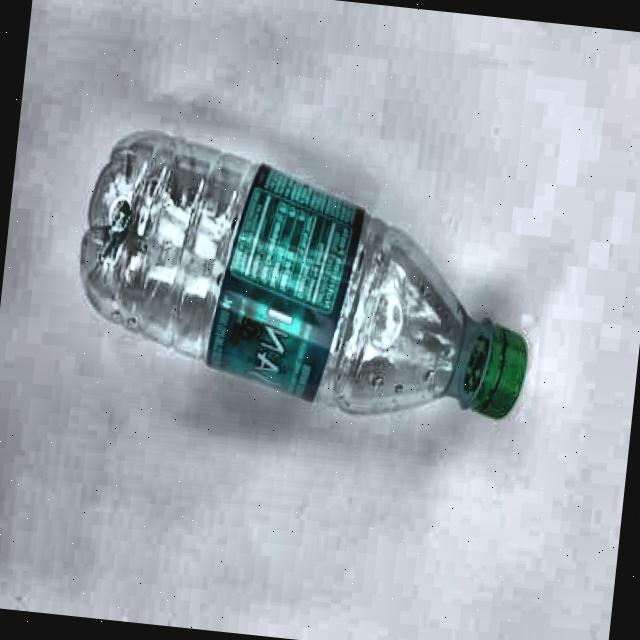plastic: (67, 123, 548, 422)
